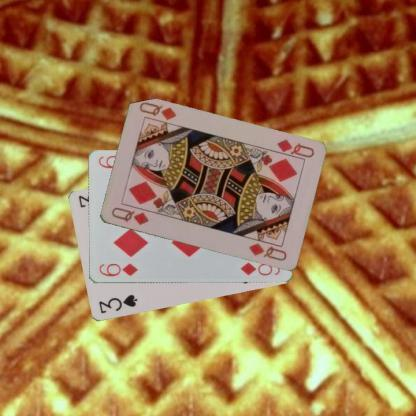3s: (96, 292, 139, 315)
6d: (96, 260, 140, 278)
Qd: (270, 136, 316, 162), (108, 204, 150, 228)
